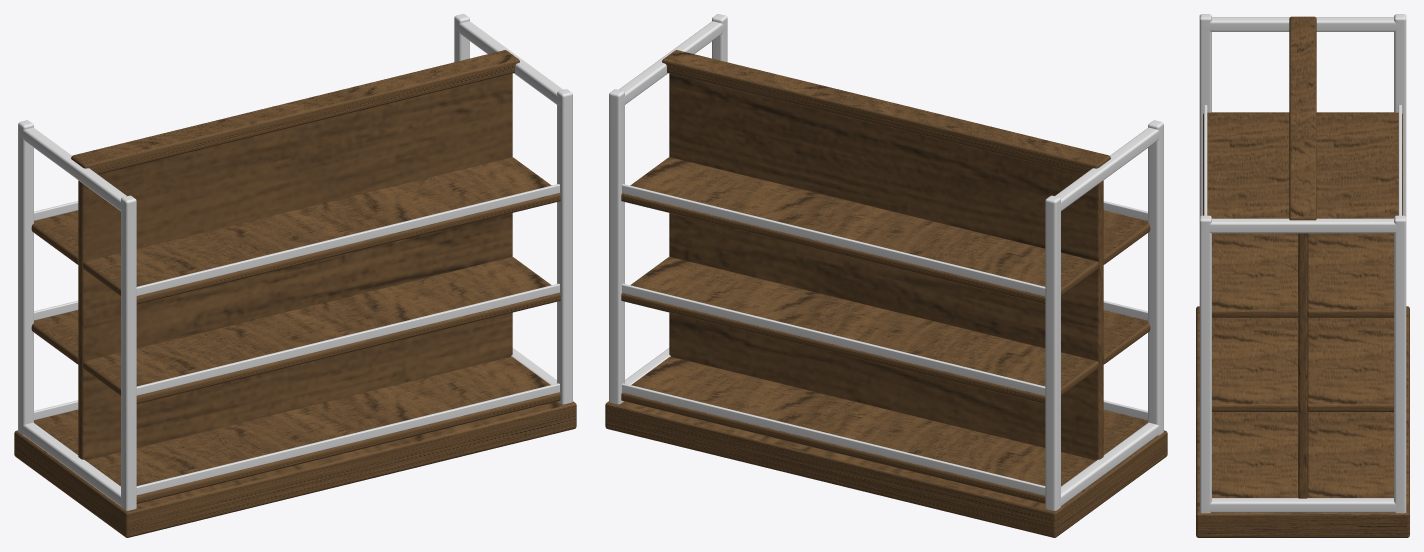
File: double_book_1.glb
3 views of the same model, side by side, from view 1: azimuth 30°, elevation 25°; view 2: azimuth 150°, elevation 25°; view 3: azimuth 270°, elevation 25° (orthographic). The views are drawn at different scales.
Parts seen in each view (by area): view 1: Structural centre spine, both faces merchandised, Three accessible shelves each side.004, Three accessible shelves each side.005, Three accessible shelves each side.003, Floor seated plinth, Top cap, below eye level, Open end upright.001, Open end upright.003, Open end upright, Face-out book retaining lip.003, Face-out book retaining lip.004, Face-out book retaining lip.005 (+6 smaller); view 2: Structural centre spine, both faces merchandised, Three accessible shelves each side.001, Three accessible shelves each side.002, Three accessible shelves each side, Floor seated plinth, Top cap, below eye level, Open end upright, Open end upright.002, Open end upright.001, Face-out book retaining lip, Face-out book retaining lip.001, Face-out book retaining lip.002 (+6 smaller); view 3: Three accessible shelves each side.002, Three accessible shelves each side.005, Three accessible shelves each side.001, Three accessible shelves each side.004, Three accessible shelves each side, Three accessible shelves each side.003, Floor seated plinth, Top cap, below eye level, Open end upright.003, Open end upright.002, End cross rail.003, Structural centre spine, both faces merchandised (+6 smaller).
Boxes of the visible parts, box(x1,y1,x2,y2) form: Structural centre spine, both faces merchandised: box(78, 73, 512, 460); Three accessible shelves each side.004: box(83, 257, 560, 403); Three accessible shelves each side.005: box(83, 157, 560, 304); Three accessible shelves each side.003: box(85, 356, 560, 503); Floor seated plinth: box(14, 401, 576, 537); Top cap, below eye level: box(71, 50, 519, 174); Open end upright.001: box(121, 195, 136, 510); Open end upright.003: box(557, 89, 572, 404); Open end upright: box(18, 120, 33, 435); Face-out book retaining lip.003: box(136, 383, 559, 495); Face-out book retaining lip.004: box(136, 283, 559, 395); Face-out book retaining lip.005: box(136, 184, 559, 295); Structural centre spine, both faces merchandised: box(669, 73, 1103, 460); Three accessible shelves each side.001: box(621, 257, 1098, 403); Three accessible shelves each side.002: box(621, 157, 1098, 304); Three accessible shelves each side: box(621, 356, 1096, 503); Floor seated plinth: box(605, 401, 1167, 537); Top cap, below eye level: box(662, 50, 1110, 174); Open end upright: box(1045, 195, 1060, 510); Open end upright.002: box(609, 89, 624, 404); Open end upright.001: box(1148, 120, 1163, 435); Face-out book retaining lip: box(622, 383, 1045, 495); Face-out book retaining lip.001: box(622, 283, 1045, 395); Face-out book retaining lip.002: box(622, 184, 1045, 295); Three accessible shelves each side.002: box(1307, 112, 1402, 317); Three accessible shelves each side.005: box(1203, 112, 1298, 317); Three accessible shelves each side.001: box(1307, 317, 1393, 411); Three accessible shelves each side.004: box(1212, 317, 1298, 411); Three accessible shelves each side: box(1307, 411, 1393, 497); Three accessible shelves each side.003: box(1212, 411, 1298, 497); Floor seated plinth: box(1196, 306, 1409, 537); Top cap, below eye level: box(1289, 16, 1316, 220); Open end upright.003: box(1199, 215, 1211, 513); Open end upright.002: box(1394, 215, 1406, 513); End cross rail.003: box(1203, 218, 1403, 233); Structural centre spine, both faces merchandised: box(1298, 20, 1307, 498).
Bounding box in the file's own units: 1.8 × 1.28 × 0.78.
Materials: 2 (1 with a texture image).
